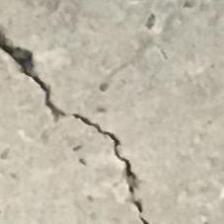Crack: (0, 25, 152, 224)
